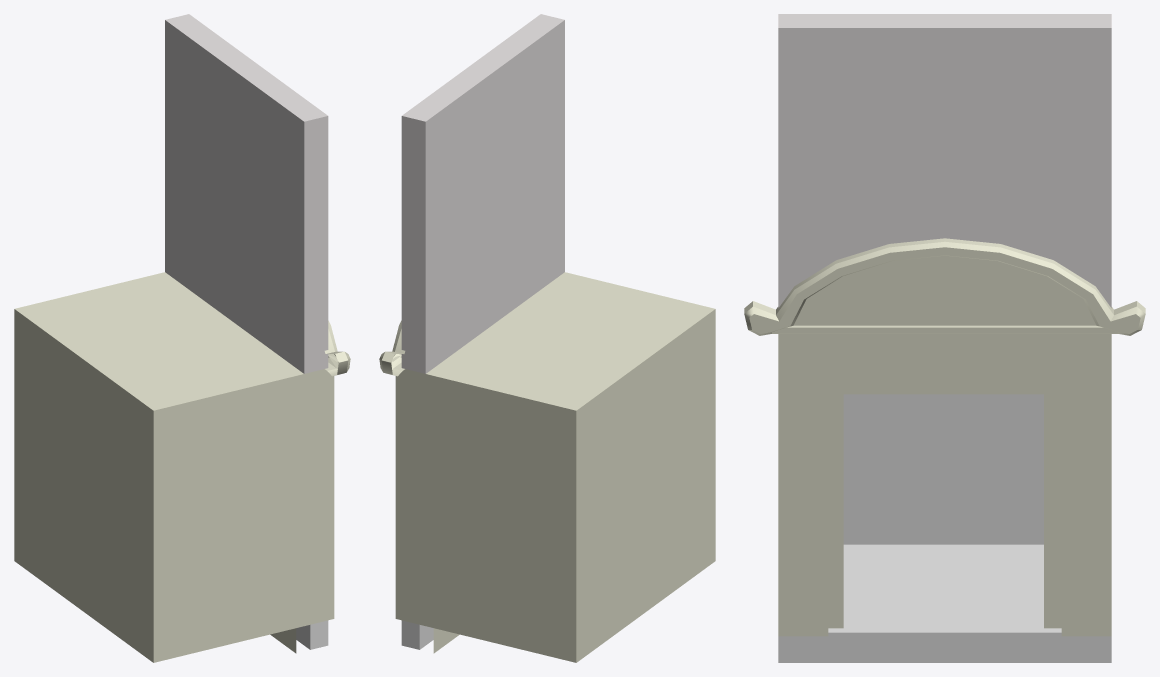
File: SM_HOTEL_Elevator.fbx
3 views of the same model, side by side, from view 1: azimuth 30°, elevation 25°; view 2: azimuth 150°, elevation 25°; view 3: azimuth 270°, elevation 25° (orthographic). The views are drawn at different scales.
Visible parts, largest first — view 1: SM_HOTEL_Elevator; view 2: SM_HOTEL_Elevator; view 3: SM_HOTEL_Elevator.
Boxes of the visible parts, x1,y1,x2,y2 form: SM_HOTEL_Elevator: [14, 14, 350, 662]; SM_HOTEL_Elevator: [379, 14, 715, 662]; SM_HOTEL_Elevator: [744, 14, 1145, 662].
Bounding box in the file's own units: 307 × 842 × 481.
